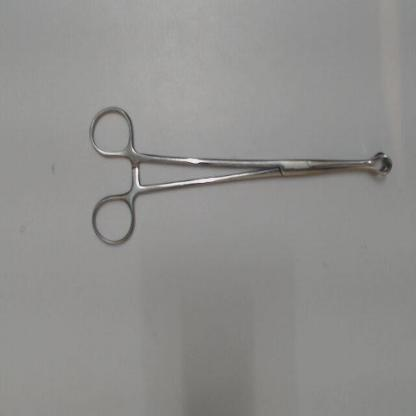8 Babcock Tissue Forceps: (86, 96, 397, 250)
